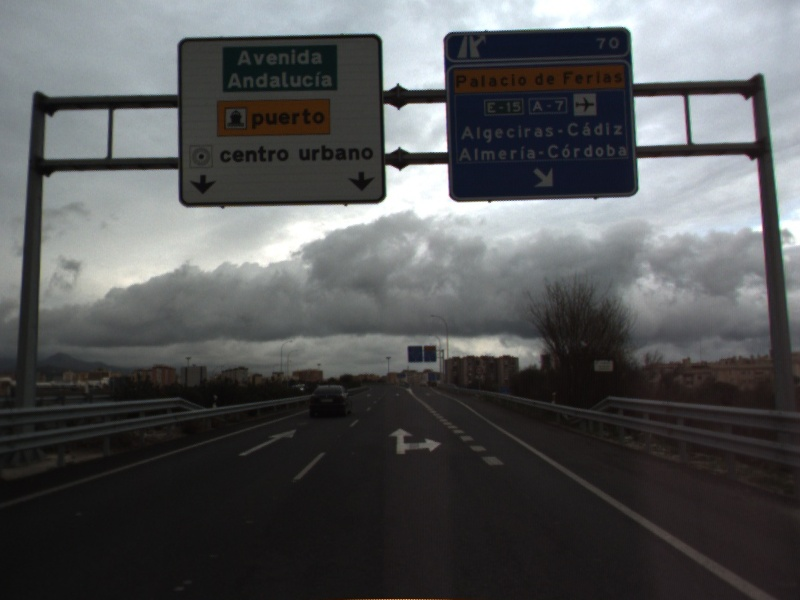STRAIGHT: (235, 427, 299, 458)
STRAIGHT_RIGHT: (386, 426, 444, 456)
